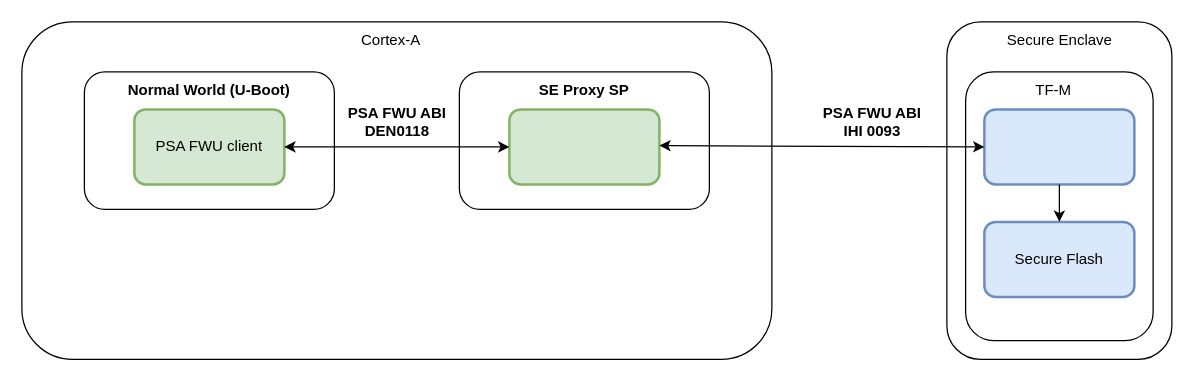
Image size: 1194x381. Some labels were removed from this diagram. Each missing label, with the centre of its shape:
PSA FWU Agent: the point at 1058,146
PSA FWU provider Update Agent: the point at 584,146
